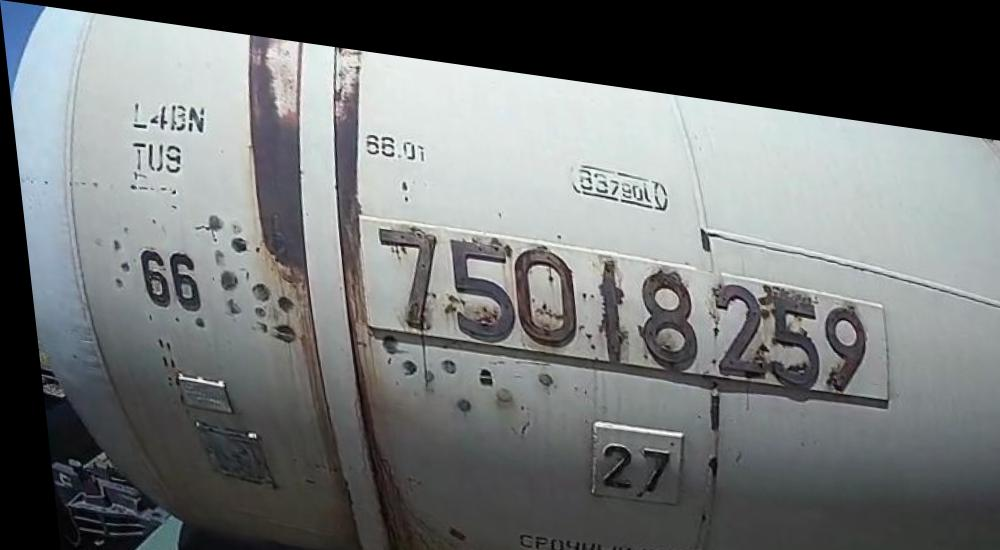Wagon-number: (365, 208, 872, 378)
